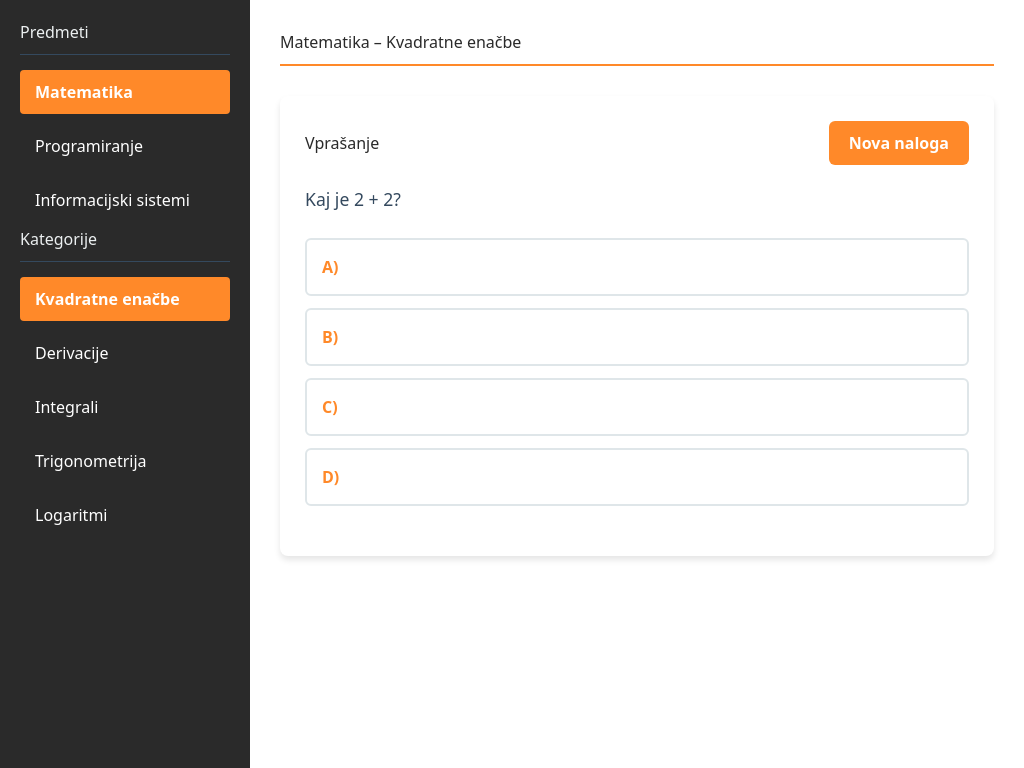
Test case: displays answer feedback after selection
This screenshot has width=1024, height=768.
Check: the text "Kaj je 2 + 2?" is shown, box [305,187,401,211]
Click the text "B)". click: (330, 337)
box: [322,325,338,349]
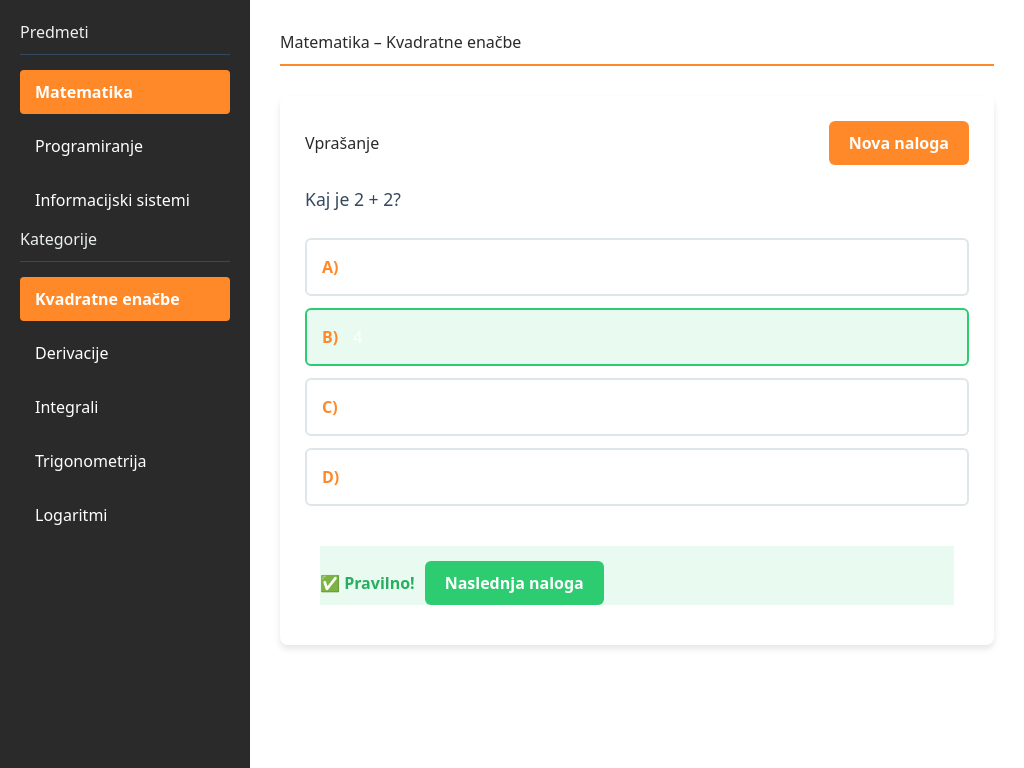
Check: the text "✅ Pravilno!" is shown, box [320,572,415,594]
